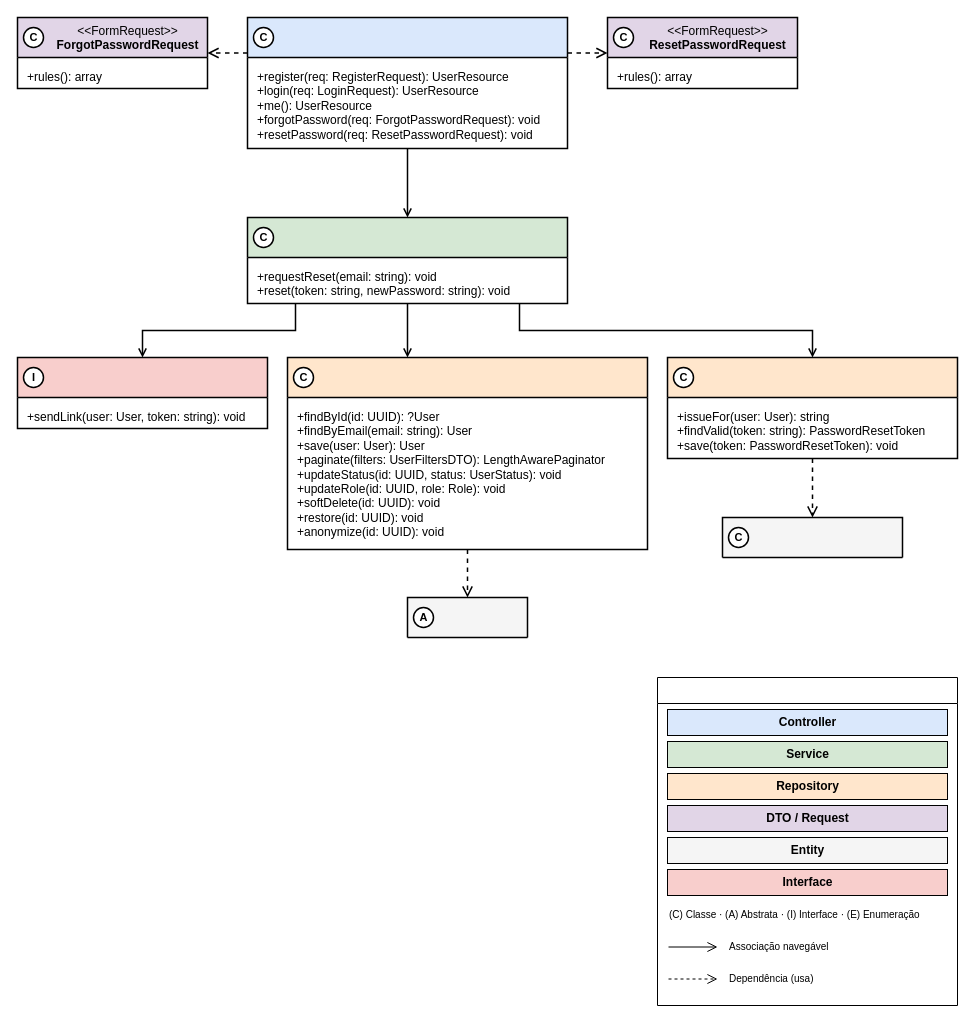
This 976x1024 diagram has some shape labels left out. The box of each missing label's shape, as (x1, y1, x2, y2) in pixels:
<<Controller>> AuthController: (246, 16, 568, 149)
<<interface>> ResetMailer: (16, 356, 268, 429)
<<Repository>> PasswordResetTokenRepository: (666, 356, 958, 459)
<<Repository>> UserRepository: (286, 356, 648, 550)
<<Service>> PasswordResetService: (246, 216, 568, 304)
Legenda: (656, 676, 958, 1006)
PasswordResetToken: (721, 516, 903, 558)
User: (406, 596, 528, 638)
